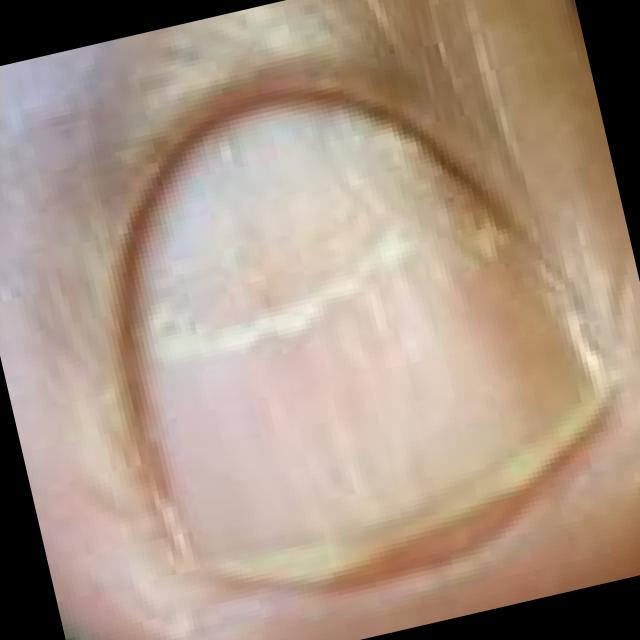Nail: (122, 98, 610, 597)
